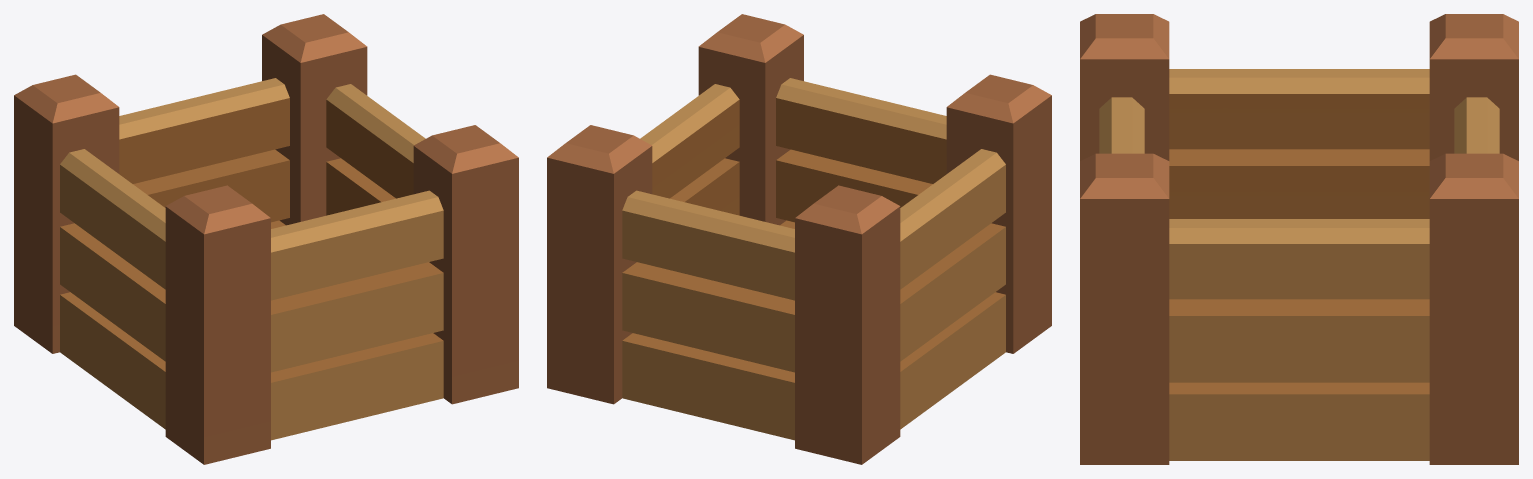
The model's file is BoxPotato1.fbx.
3 views of the same model, side by side, from view 1: azimuth 30°, elevation 25°; view 2: azimuth 150°, elevation 25°; view 3: azimuth 270°, elevation 25° (orthographic). The views are drawn at different scales.
Visible parts, largest first — view 1: Cube.002; view 2: Cube.002; view 3: Cube.002.
Part boxes in pixels (x1,y1,x2,y2): Cube.002: (14,14,518,464); Cube.002: (547,14,1051,464); Cube.002: (1080,14,1518,464).
Size of the model in its own units: 1.41 by 1.04 by 1.48.
